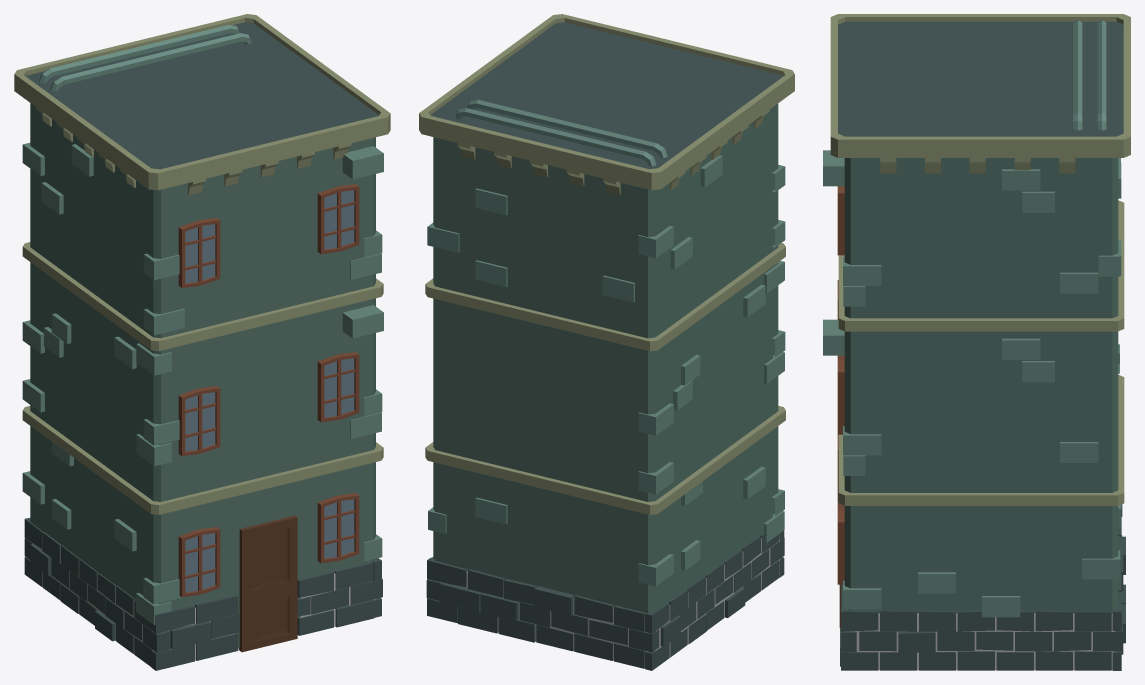
Rendered from 3Story_Small_Mat.gltf.
3 views of the same model, side by side, from view 1: azimuth 30°, elevation 25°; view 2: azimuth 150°, elevation 25°; view 3: azimuth 270°, elevation 25° (orthographic). The views are drawn at different scales.
Parts seen in each view (by area): view 1: o 3Story_Small_Mat_Cube.011; view 2: o 3Story_Small_Mat_Cube.011; view 3: o 3Story_Small_Mat_Cube.011.
Part boxes in pixels (x1,y1,x2,y2): o 3Story_Small_Mat_Cube.011: (14,14,390,670); o 3Story_Small_Mat_Cube.011: (419,14,794,670); o 3Story_Small_Mat_Cube.011: (823,14,1130,670).
Bounding box in the file's own units: 1.91 × 3.85 × 1.97.
